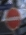No entry: (5, 6, 21, 30)
